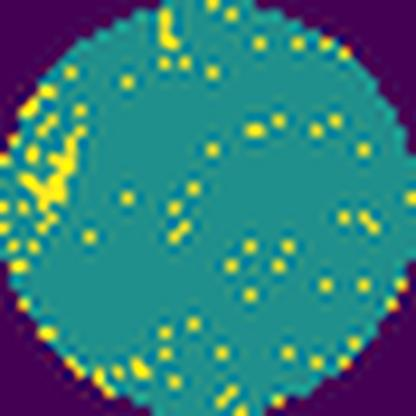Loc: (20, 126, 87, 223)
